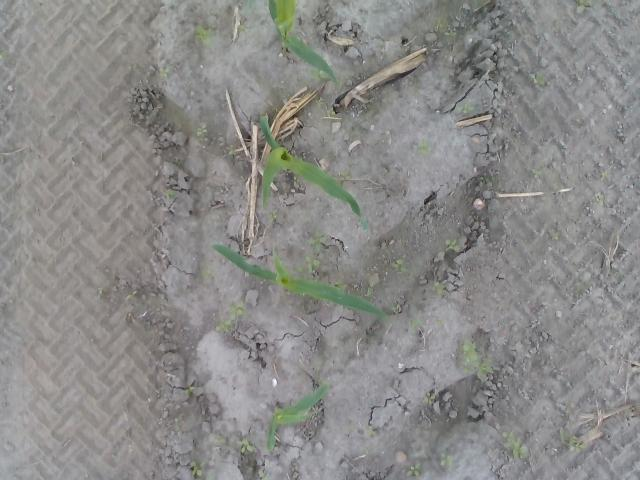Maize: (210, 242, 388, 320), (258, 112, 370, 234), (266, 0, 338, 92), (266, 383, 334, 451)
Weeds: (460, 340, 494, 376), (214, 300, 247, 334), (500, 432, 530, 460), (294, 253, 322, 276), (196, 24, 216, 48), (434, 17, 456, 38), (562, 431, 587, 449), (302, 233, 320, 253), (391, 257, 410, 275), (238, 437, 254, 455), (406, 462, 422, 479), (406, 318, 422, 334), (190, 460, 204, 478), (416, 142, 434, 156), (531, 70, 546, 86), (575, 0, 592, 13), (439, 452, 454, 466), (422, 392, 436, 407), (364, 426, 378, 440), (432, 280, 446, 294), (480, 174, 496, 186), (455, 103, 475, 112), (194, 126, 207, 139), (157, 66, 170, 79), (182, 384, 197, 395), (311, 66, 324, 78), (163, 191, 176, 203), (593, 192, 604, 206), (226, 143, 236, 158), (269, 209, 279, 222), (254, 471, 268, 480), (444, 240, 456, 250), (238, 25, 250, 33), (334, 281, 343, 290), (312, 96, 322, 104), (340, 175, 351, 181), (600, 169, 608, 177)
